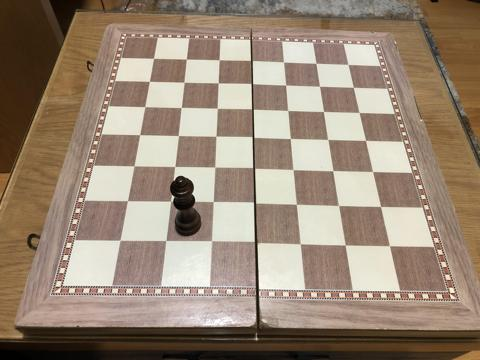xcorner: (285, 132, 298, 145), (246, 55, 259, 67), (148, 52, 161, 64), (248, 131, 260, 144), (294, 239, 307, 251), (344, 58, 356, 70), (311, 57, 323, 69), (279, 56, 291, 68), (214, 54, 226, 66), (181, 53, 193, 65), (349, 81, 361, 93), (315, 80, 327, 92), (281, 79, 293, 91), (247, 78, 259, 90), (213, 77, 225, 89), (178, 76, 190, 88), (144, 75, 156, 87), (354, 106, 366, 118), (319, 105, 331, 117), (283, 104, 295, 116), (247, 103, 259, 115), (211, 102, 223, 114), (175, 101, 187, 113), (139, 100, 151, 112), (361, 135, 373, 147), (323, 134, 335, 146), (210, 130, 222, 142), (172, 129, 184, 141), (134, 128, 146, 140), (368, 166, 380, 178), (328, 165, 340, 177), (288, 164, 300, 176), (248, 163, 260, 175), (208, 162, 220, 174), (168, 161, 180, 173), (128, 160, 140, 172), (375, 201, 387, 213), (333, 200, 345, 212), (291, 199, 303, 211), (249, 198, 261, 210), (206, 197, 218, 209), (164, 196, 176, 208), (121, 195, 133, 207), (384, 241, 396, 253), (339, 240, 351, 252), (249, 238, 261, 250), (204, 237, 216, 249), (159, 236, 171, 248), (113, 235, 125, 247)
